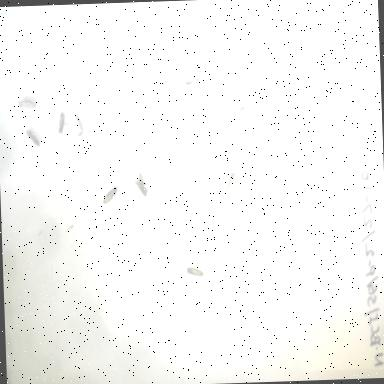pbw: (100, 184, 119, 209), (231, 104, 248, 128), (16, 96, 38, 114), (132, 176, 148, 200), (222, 170, 237, 194), (184, 264, 206, 280), (25, 128, 41, 148), (182, 74, 201, 90), (55, 110, 67, 134), (72, 112, 85, 133), (136, 171, 146, 189)
